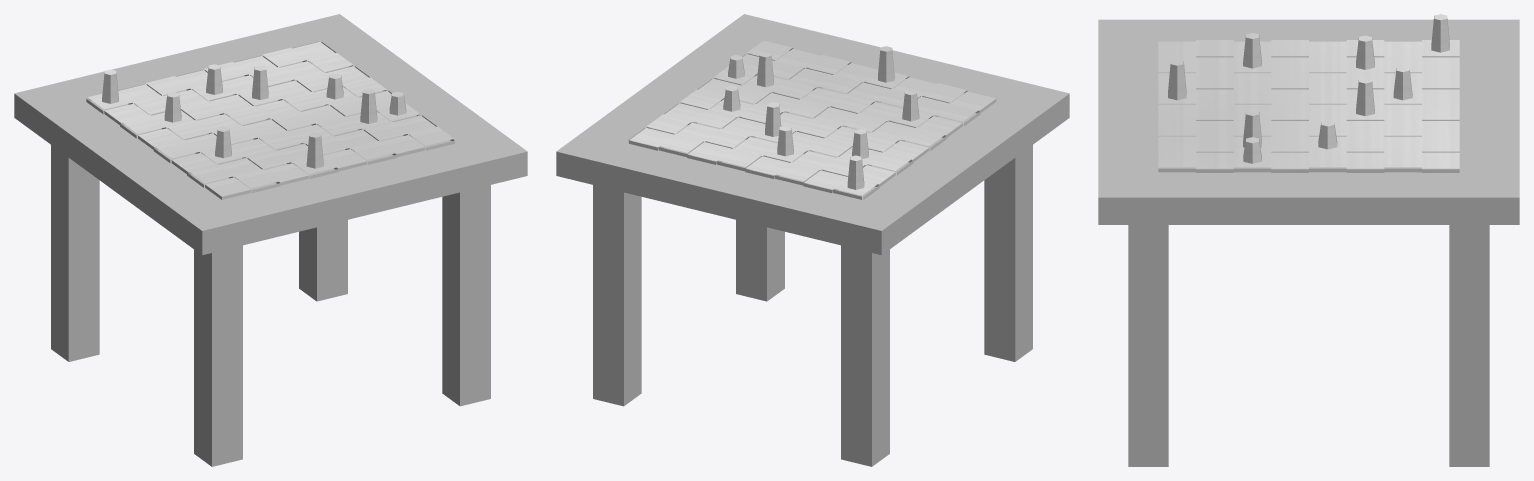
File: chess_table.obj
The picture shows the model from 3 angles, left to right: view 1: azimuth 30°, elevation 25°; view 2: azimuth 150°, elevation 25°; view 3: azimuth 270°, elevation 25°; orthographic projection. The views are drawn at different scales.
Parts seen in each view (by area): view 1: chess_table; view 2: chess_table; view 3: chess_table.
Part boxes in pixels (x1,y1,x2,y2): chess_table: (14, 14, 527, 466); chess_table: (556, 14, 1069, 466); chess_table: (1098, 14, 1519, 466).
Size of the model in its own units: 0.84 by 0.704 by 0.84.
